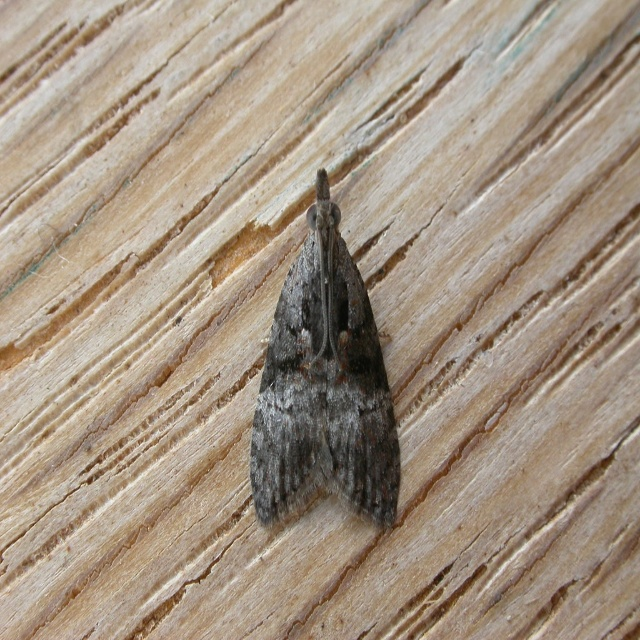Moths and butterflies: (251, 165, 400, 535)
